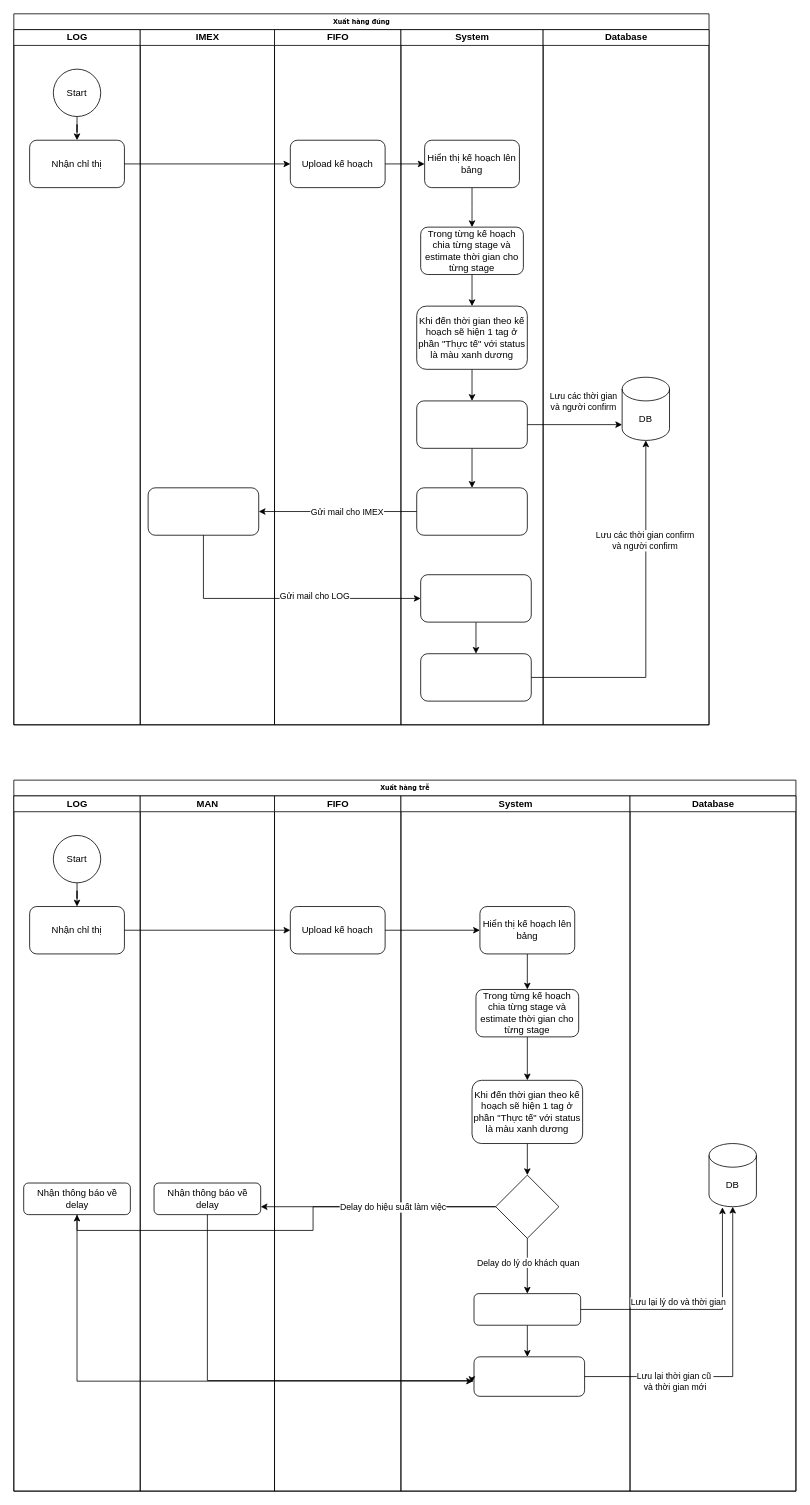
Some shapes in this 810 by 1505 pixel diagram are drawn without their labels. The shapes that lost their labels are listed below. From the top down, each one's centre as x and y in pixels, then its label:
At (x=471, y=424): "Confirm từng stage sau khi đã hoàn thành".
At (x=203, y=511): "Nhận mail stagging sheet".
At (x=471, y=511): "Upload file Stagging kèm code".
At (x=475, y=598): "Upload load file Invoice".
At (x=475, y=677): "Tiếp tục confirm sau khi hoàn thành các giai đoạn".
At (x=527, y=1206): "Delay".
At (x=527, y=1309): "Nêu lý do delay kèm thời gian bị delay".
At (x=529, y=1376): "Tính toán lại thời gian từ giai đoạn bị delay".
